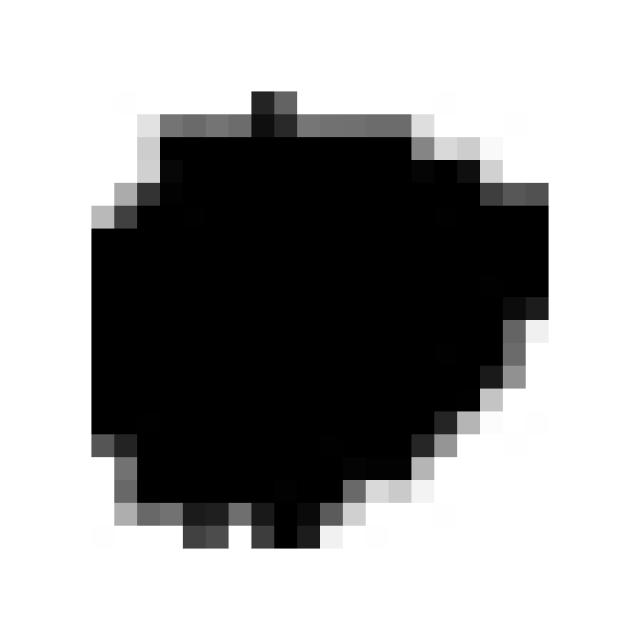0 -zero-: (64, 73, 569, 554)
